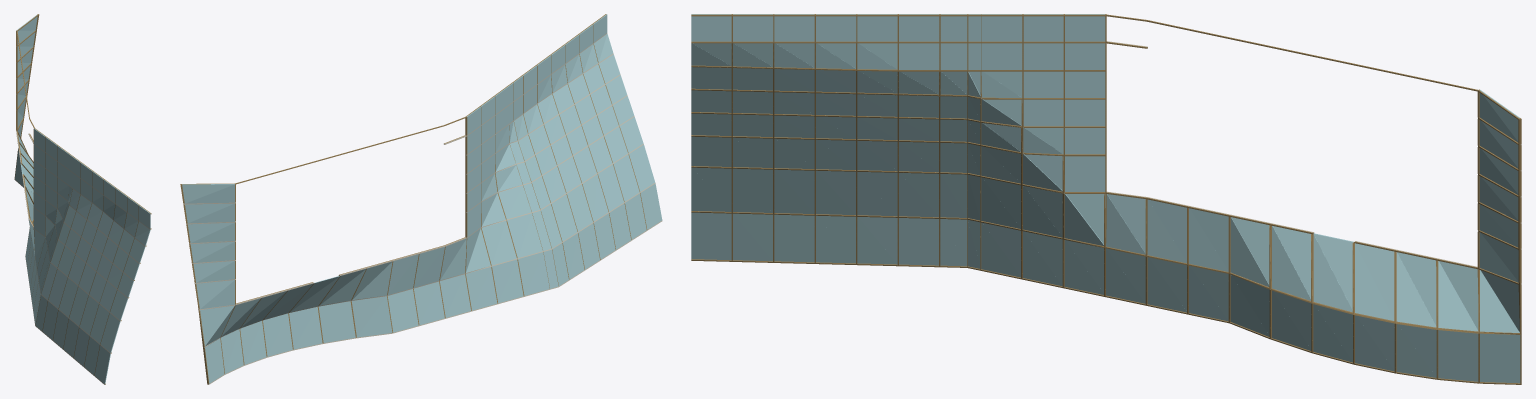
File: G7_Completion_R003_Body_-1_00.glb
3 renders of one model, left to right at view 1: azimuth 30°, elevation 25°; view 2: azimuth 150°, elevation 25°; view 3: azimuth 270°, elevation 25°, orthographic. The views are drawn at different scales.
Visible parts, largest first — view 1: Body_-1_00_G7C3_glass_solid_skin, Body_-1_00_G7C3_metal_solid_skin, Body_-1_00_G7C3_shell_solid_skin, Body_-1_00_G7C3_metal_solid_frame; view 2: Body_-1_00_G7C3_glass_solid_skin, Body_-1_00_G7C3_metal_solid_skin, Body_-1_00_G7C3_shell_solid_skin, Body_-1_00_G7C3_metal_solid_frame; view 3: Body_-1_00_G7C3_glass_solid_skin, Body_-1_00_G7C3_metal_solid_frame.
Part boxes in pixels (x1,y1,x2,y2): Body_-1_00_G7C3_glass_solid_skin: [15, 14, 150, 383]; Body_-1_00_G7C3_metal_solid_skin: [14, 14, 138, 375]; Body_-1_00_G7C3_shell_solid_skin: [14, 46, 150, 384]; Body_-1_00_G7C3_metal_solid_frame: [16, 14, 151, 384]; Body_-1_00_G7C3_glass_solid_skin: [182, 14, 662, 383]; Body_-1_00_G7C3_metal_solid_skin: [180, 24, 647, 383]; Body_-1_00_G7C3_shell_solid_skin: [183, 33, 662, 384]; Body_-1_00_G7C3_metal_solid_frame: [180, 14, 606, 384]; Body_-1_00_G7C3_glass_solid_skin: [691, 14, 1520, 383]; Body_-1_00_G7C3_metal_solid_frame: [691, 14, 1521, 384].
Size of the model in its own units: 49.67 by 45.5 by 120.
Materials: 3 (2 with a texture image).
